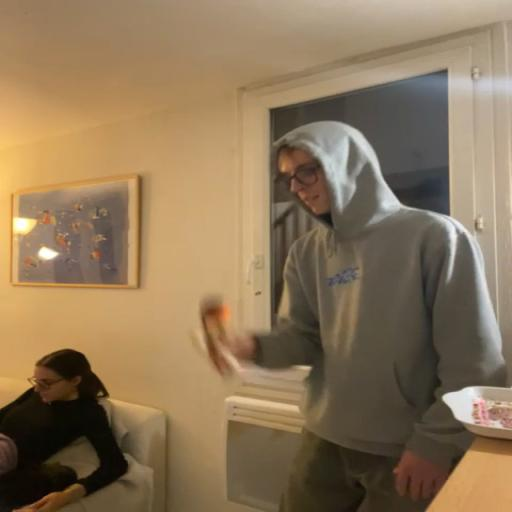kendama_ball: (198, 293, 230, 328)
